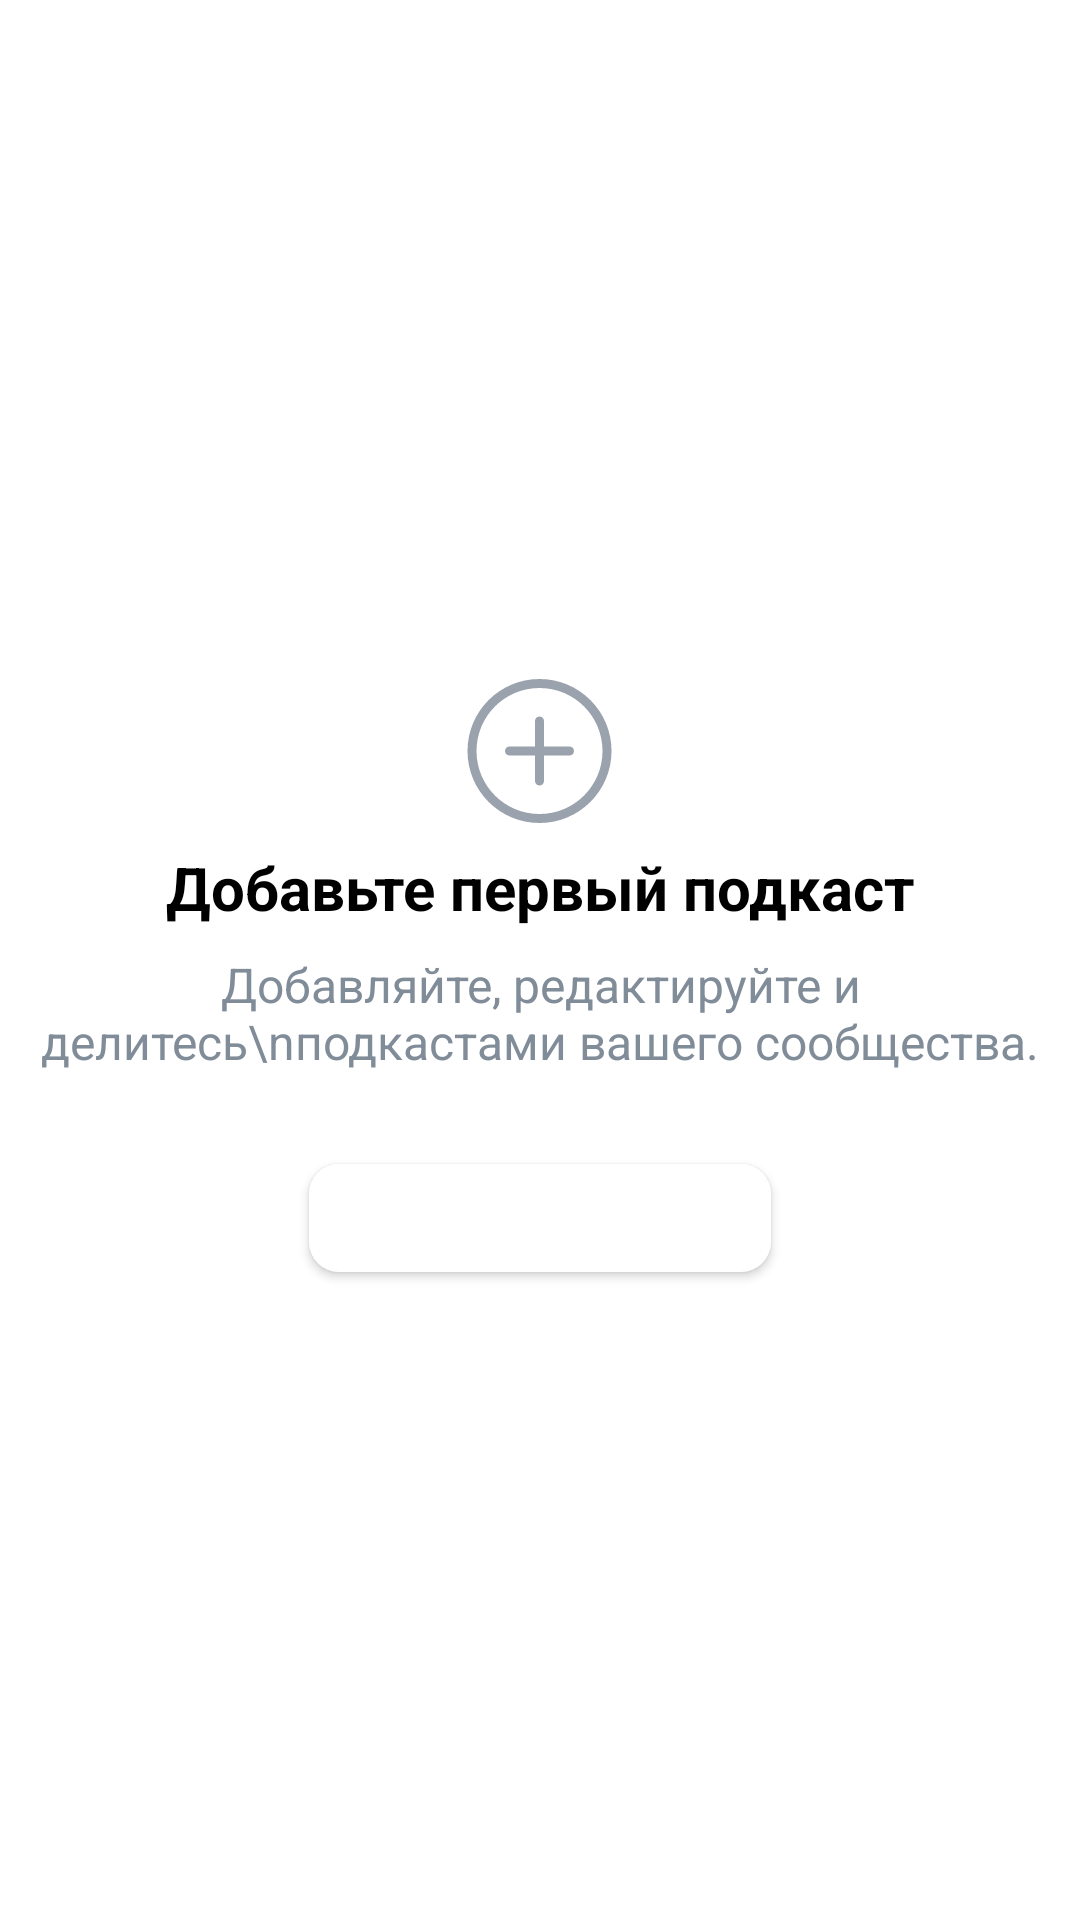

Named icons in this screenshot (1080px×1920px) and their bounding boxes, (x1, y1, x2, y2):
add: (467, 679, 612, 823)
